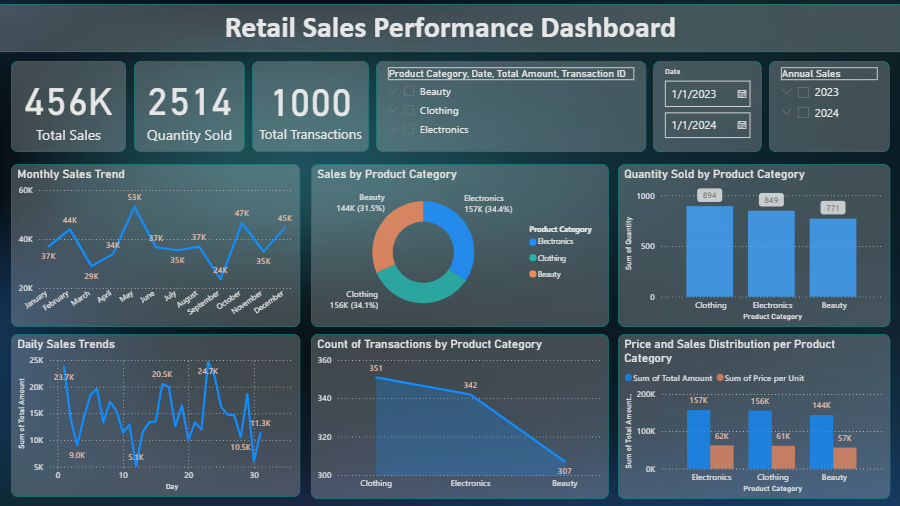

The dashboard page shown, as its layout file describes it:
{"tool":"powerbi","page":{"name":"Page 1","canvas":[1280,720],"ordinal":0},"visuals":[{"type":"clusteredColumnChart","title":"Price and Sales Distribution per Product Category","fields":{"Category":["cleaned_retail_sales_data.Product Category"],"Y":["Sum(cleaned_retail_sales_data.Total Amount)","Sum(cleaned_retail_sales_data.Price per Unit)"]},"box":[877.3,474.8,385.5,233.9],"z":0},{"type":"slicer","fields":{"Values":["cleaned_retail_sales_data.Product Category","cleaned_retail_sales_data.Date","cleaned_retail_sales_data.Total Amount","cleaned_retail_sales_data.Transaction ID"]},"box":[534.3,87.9,382.7,129],"z":1000},{"type":"textbox","box":[0,7.1,1279.8,68],"z":2000},{"type":"card","fields":{"Values":["Sum(cleaned_retail_sales_data.Quantity)"]},"box":[191.3,87.9,157.3,129],"z":3000},{"type":"lineChart","title":"Monthly Sales Trend","fields":{"Y":["Sum(cleaned_retail_sales_data.Total Amount)"],"Category":["cleaned_retail_sales_data.Date.Variation.Date Hierarchy.Month"]},"box":[17,233.9,409.6,231],"z":4000},{"type":"slicer","title":"Annual Sales Trend","fields":{"Values":["cleaned_retail_sales_data.year","cleaned_retail_sales_data.Total Amount"]},"box":[1091.3,87.9,171.5,129],"z":5000},{"type":"card","fields":{"Values":["Sum(cleaned_retail_sales_data.Total Amount)"]},"box":[17,87.9,163,129],"z":6000},{"type":"donutChart","title":"Sales by Product Category","fields":{"Y":["Sum(cleaned_retail_sales_data.Total Amount)"],"Category":["cleaned_retail_sales_data.Product Category"]},"box":[442.2,233.9,422.4,231],"z":7000},{"type":"lineChart","title":"Daily Sales Trends","fields":{"Category":["cleaned_retail_sales_data.Date.Variation.Date Hierarchy.Day"],"Y":["Sum(cleaned_retail_sales_data.Total Amount)"]},"box":[17,474.8,409.6,231],"z":8000},{"type":"card","fields":{"Values":["CountNonNull(cleaned_retail_sales_data.Transaction ID)"]},"box":[358.6,87.9,165.8,129],"z":9000},{"type":"lineStackedColumnComboChart","title":"Quantity Sold by Product Category","fields":{"Category":["cleaned_retail_sales_data.Product Category"],"Y":["Sum(cleaned_retail_sales_data.Quantity)"]},"box":[877.3,233.9,385.5,231],"z":10000},{"type":"slicer","fields":{"Values":["cleaned_retail_sales_data.Date"]},"box":[926.9,87.9,154.5,129],"z":11000},{"type":"actionButton","box":[0,0,100,40],"z":13000},{"type":"areaChart","title":"Count of Transactions by Product Category","fields":{"Y":["CountNonNull(cleaned_retail_sales_data.Transaction ID)"],"Category":["cleaned_retail_sales_data.Product Category"]},"box":[442.2,474.8,422.4,233.9],"z":15000}]}

Visuals, with their boxes in screenshot pixels (x1, y1, x2, y2), scaled from the page's 1280x720 canvas onto the 900x506 screenshot:
"Price and Sales Distribution per Product Category" clusteredColumnChart: left=617, top=334, right=888, bottom=498
slicer - cleaned_retail_sales_data.Product Category x cleaned_retail_sales_data.Date: left=376, top=62, right=645, bottom=152
textbox: left=0, top=5, right=899, bottom=53
card - Sum(cleaned_retail_sales_data.Quantity): left=135, top=62, right=245, bottom=152
"Monthly Sales Trend" lineChart: left=12, top=164, right=300, bottom=327
"Annual Sales Trend" slicer: left=767, top=62, right=888, bottom=152
card - Sum(cleaned_retail_sales_data.Total Amount): left=12, top=62, right=127, bottom=152
"Sales by Product Category" donutChart: left=311, top=164, right=608, bottom=327
"Daily Sales Trends" lineChart: left=12, top=334, right=300, bottom=496
card - CountNonNull(cleaned_retail_sales_data.Transaction ID): left=252, top=62, right=369, bottom=152
"Quantity Sold by Product Category" lineStackedColumnComboChart: left=617, top=164, right=888, bottom=327
slicer - cleaned_retail_sales_data.Date: left=652, top=62, right=760, bottom=152
actionButton: left=0, top=0, right=70, bottom=28
"Count of Transactions by Product Category" areaChart: left=311, top=334, right=608, bottom=498
